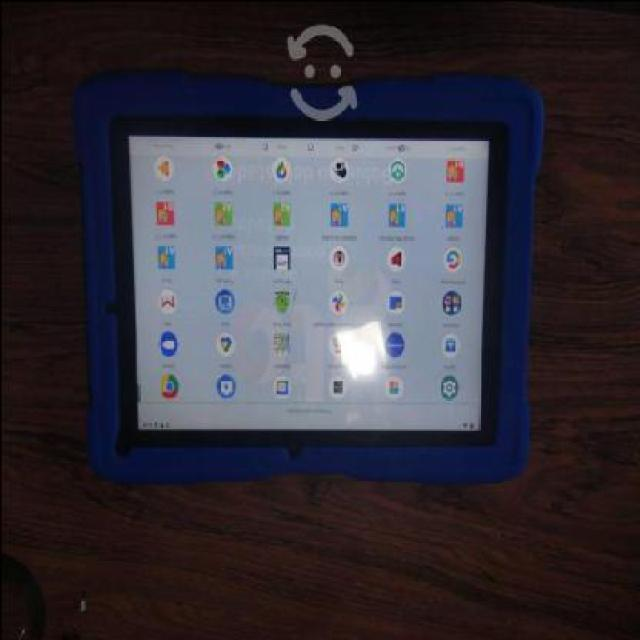tablet: (49, 36, 568, 550)
